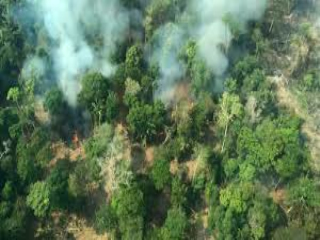fire: (70, 133, 78, 145)
smoke: (31, 15, 132, 112), (161, 7, 260, 88)
